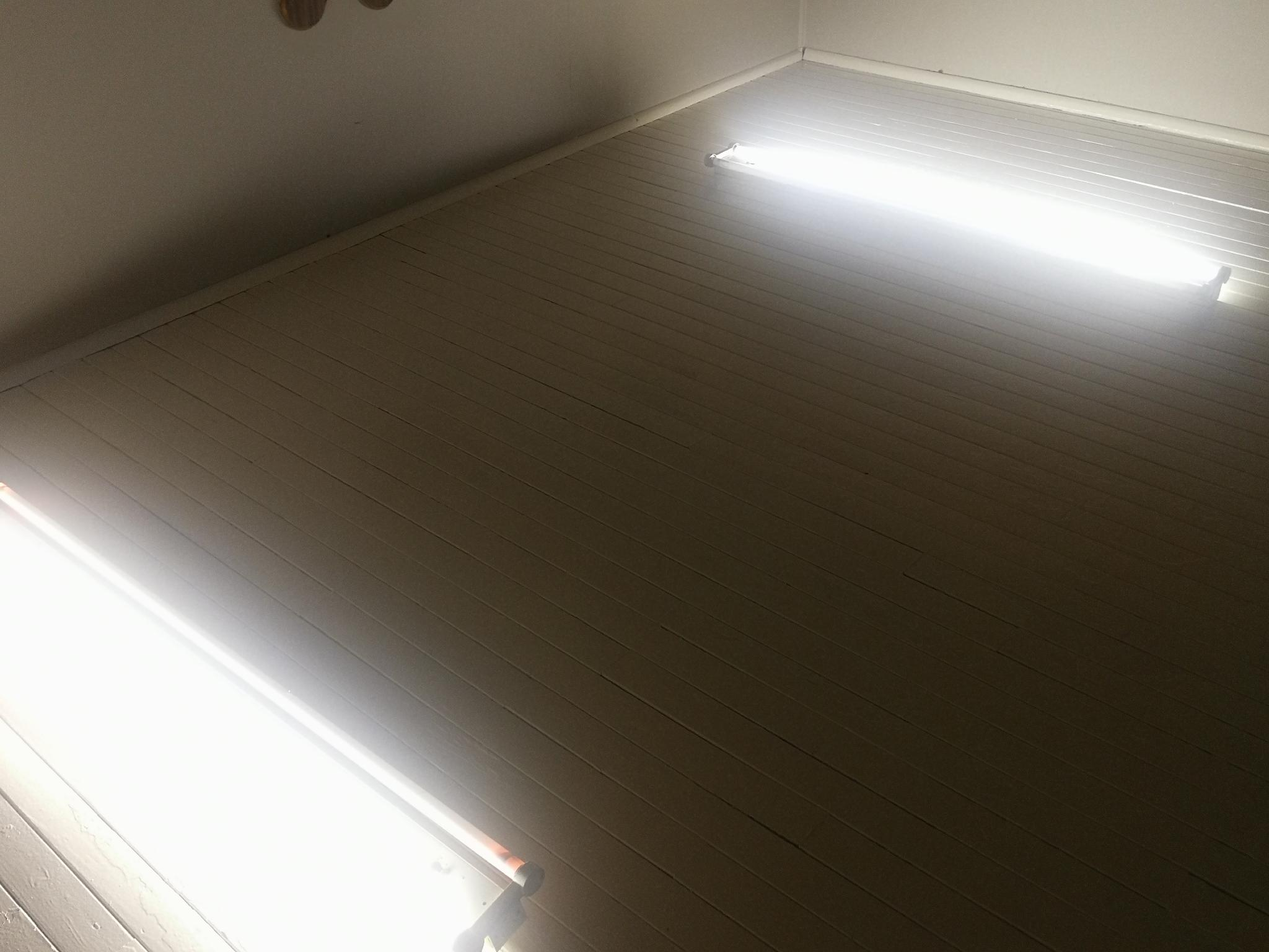light: (1, 479, 543, 950), (707, 137, 1230, 297)
